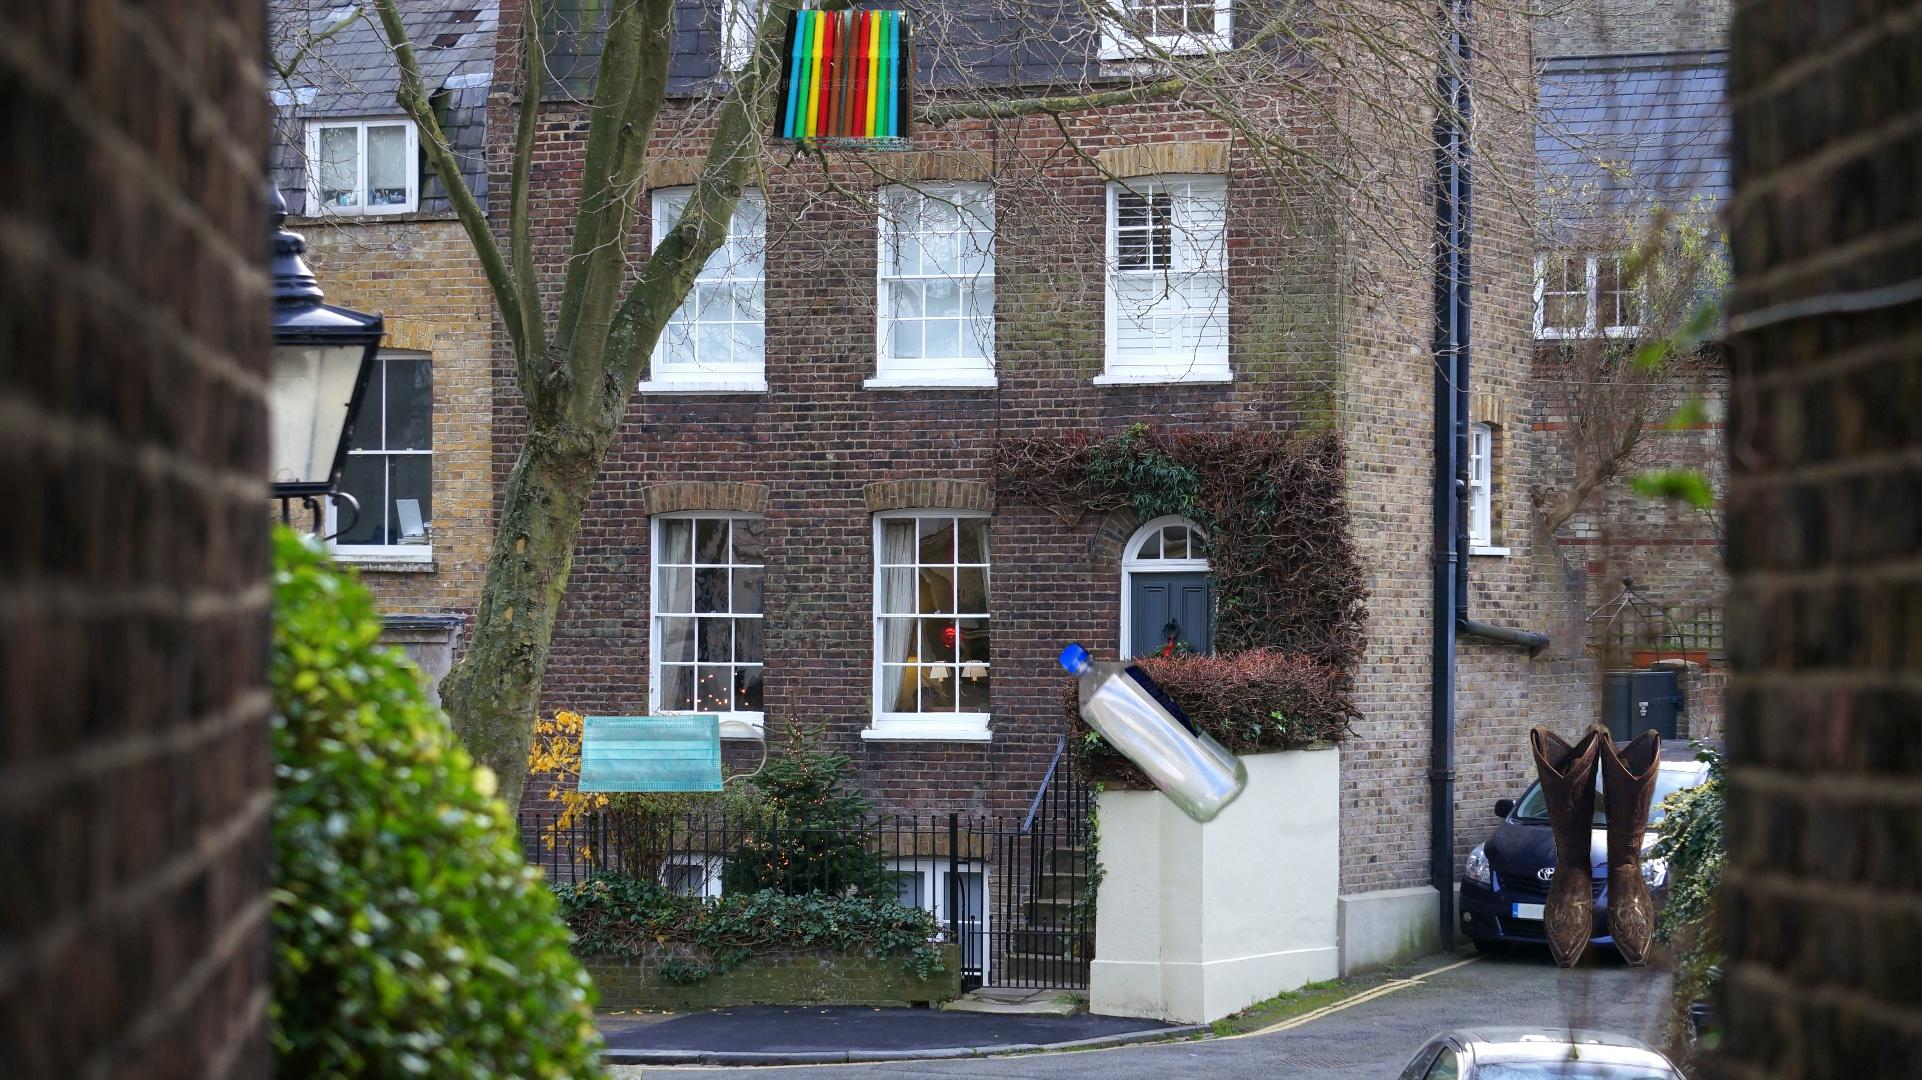penholder: (764, 7, 921, 153)
plastic-bottles: (1053, 636, 1251, 828)
shoes: (1527, 724, 1665, 972)
trash: (543, 712, 767, 795)
